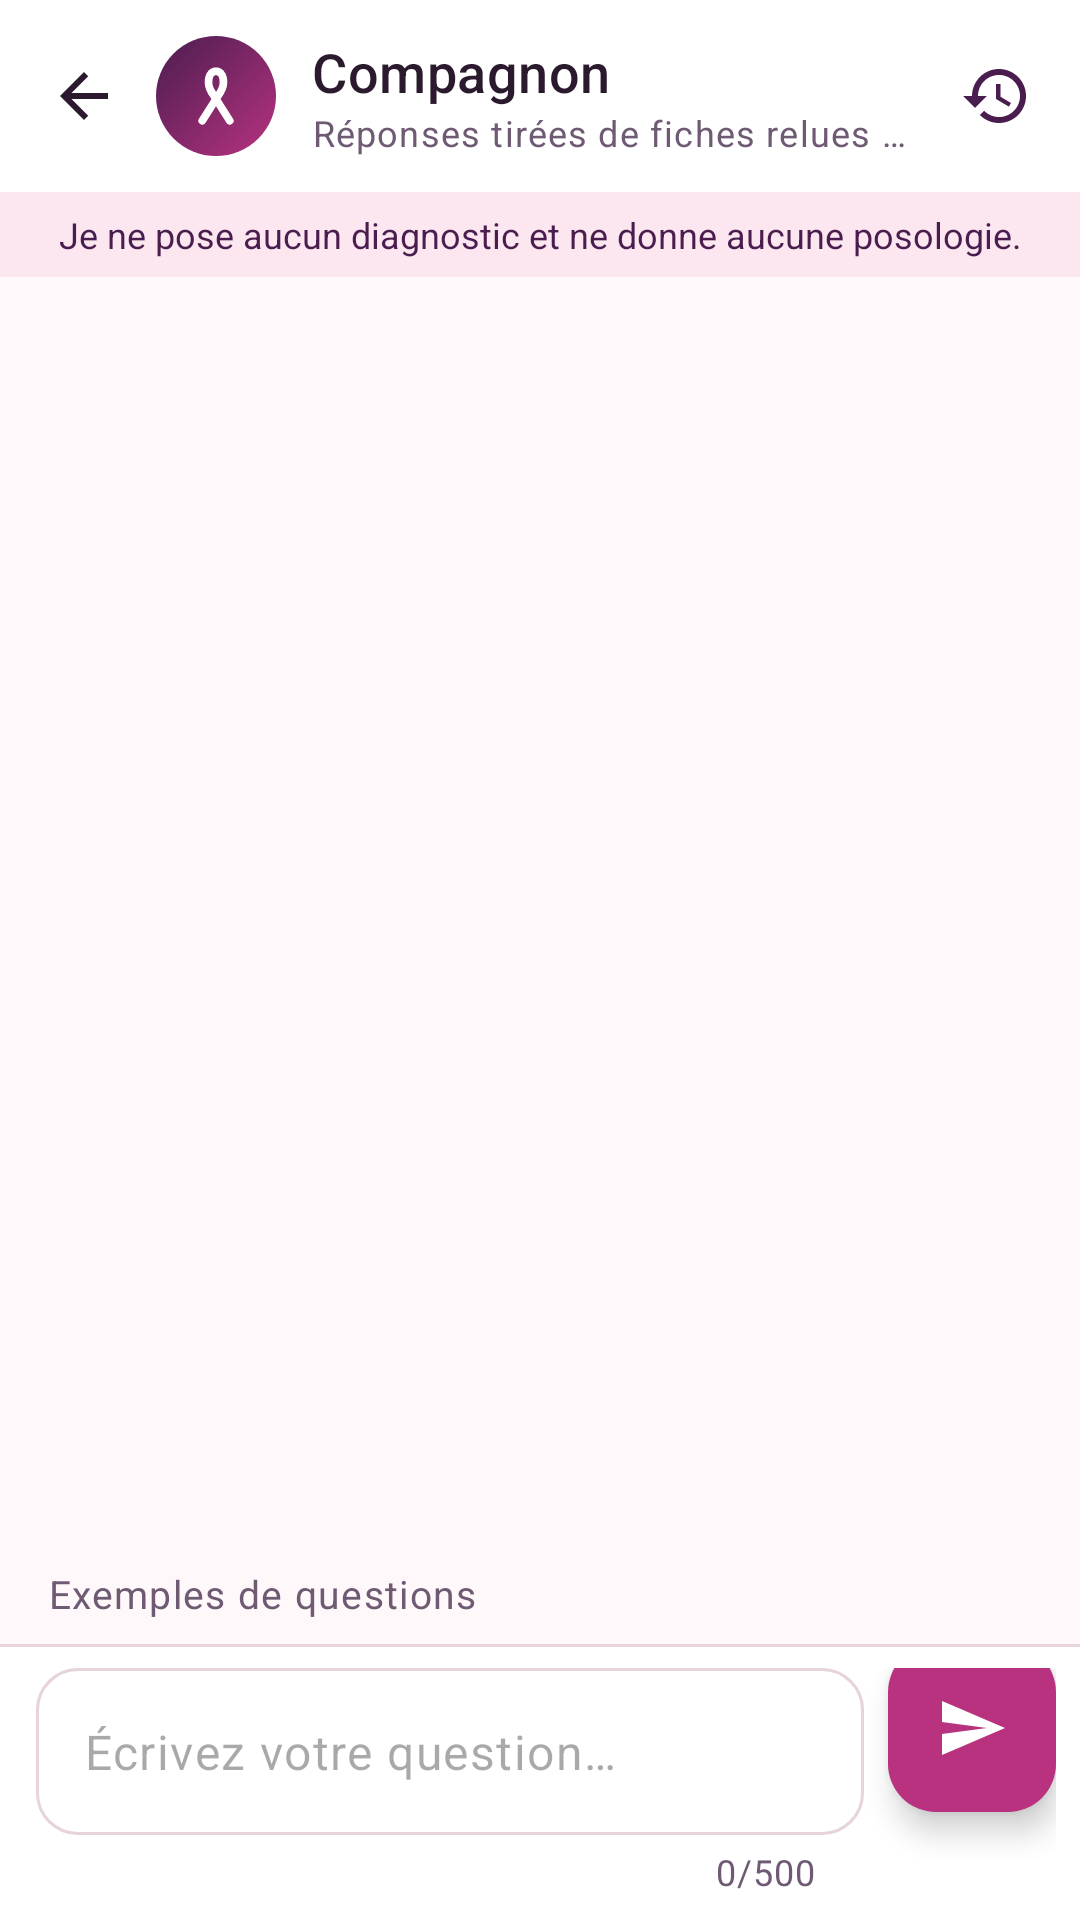

Screen size 1080px x 1920px. Icon name, then its center in pixels as [x,y]:
Envoyer: [972,1728]
Historique: [994,96]
Retour: [84,96]
ribbon: [223,98]
